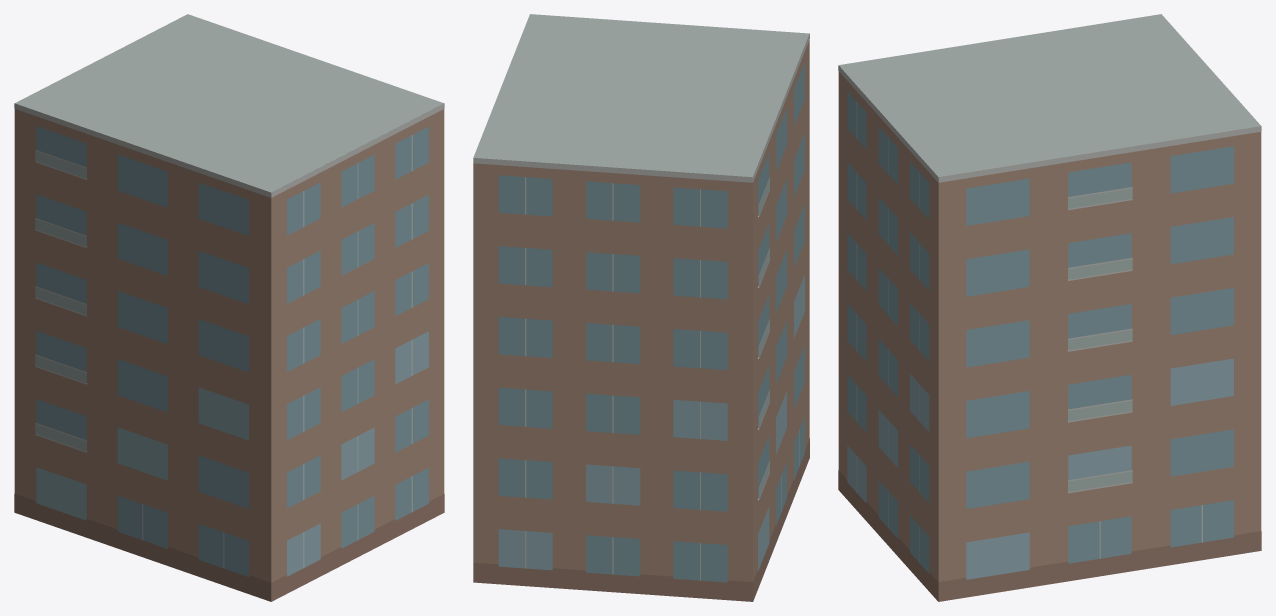
Rendered from survey-upis-33015378.glb.
3 views of the same model, side by side, from view 1: azimuth 30°, elevation 25°; view 2: azimuth 150°, elevation 25°; view 3: azimuth 270°, elevation 25° (orthographic). The views are drawn at different scales.
Visible parts, largest first — view 1: survey-upis-33015378.tmp; view 2: survey-upis-33015378.tmp; view 3: survey-upis-33015378.tmp.
Part boxes in pixels (box(x1,y1,x2,y2)): survey-upis-33015378.tmp: box(14, 14, 444, 601); survey-upis-33015378.tmp: box(473, 14, 809, 601); survey-upis-33015378.tmp: box(838, 14, 1261, 601).
Bounding box in the file's own units: 15.34 × 18.6 × 16.8.
